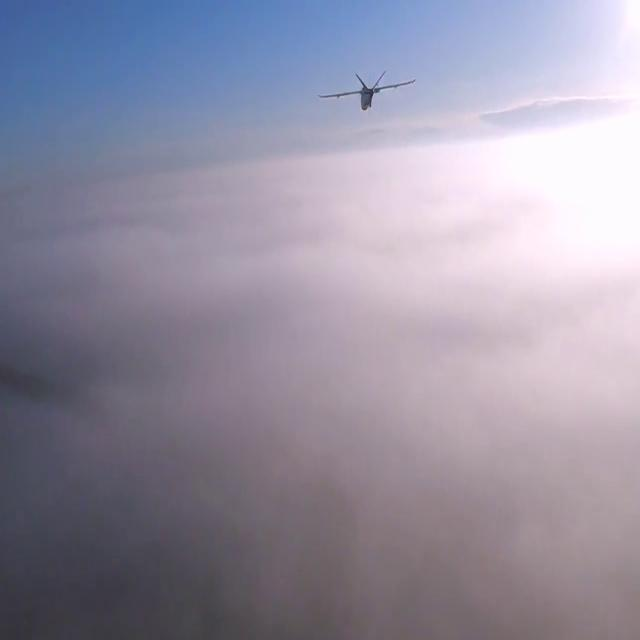iha: (351, 6, 383, 49)
